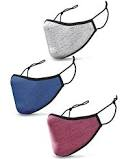cloth_mask: (47, 97, 120, 157)
